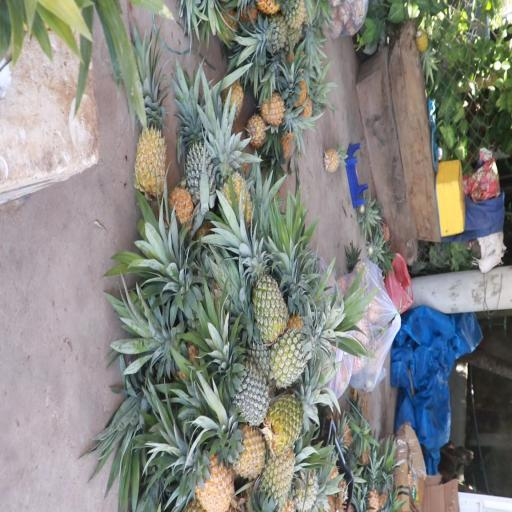------------------------------: (269, 312, 342, 391), (238, 234, 287, 341), (269, 376, 340, 446)
Pineapple - v8 v1: (170, 426, 230, 512), (210, 403, 268, 481), (133, 74, 169, 195), (213, 128, 255, 228), (256, 441, 298, 512), (258, 84, 310, 132)
